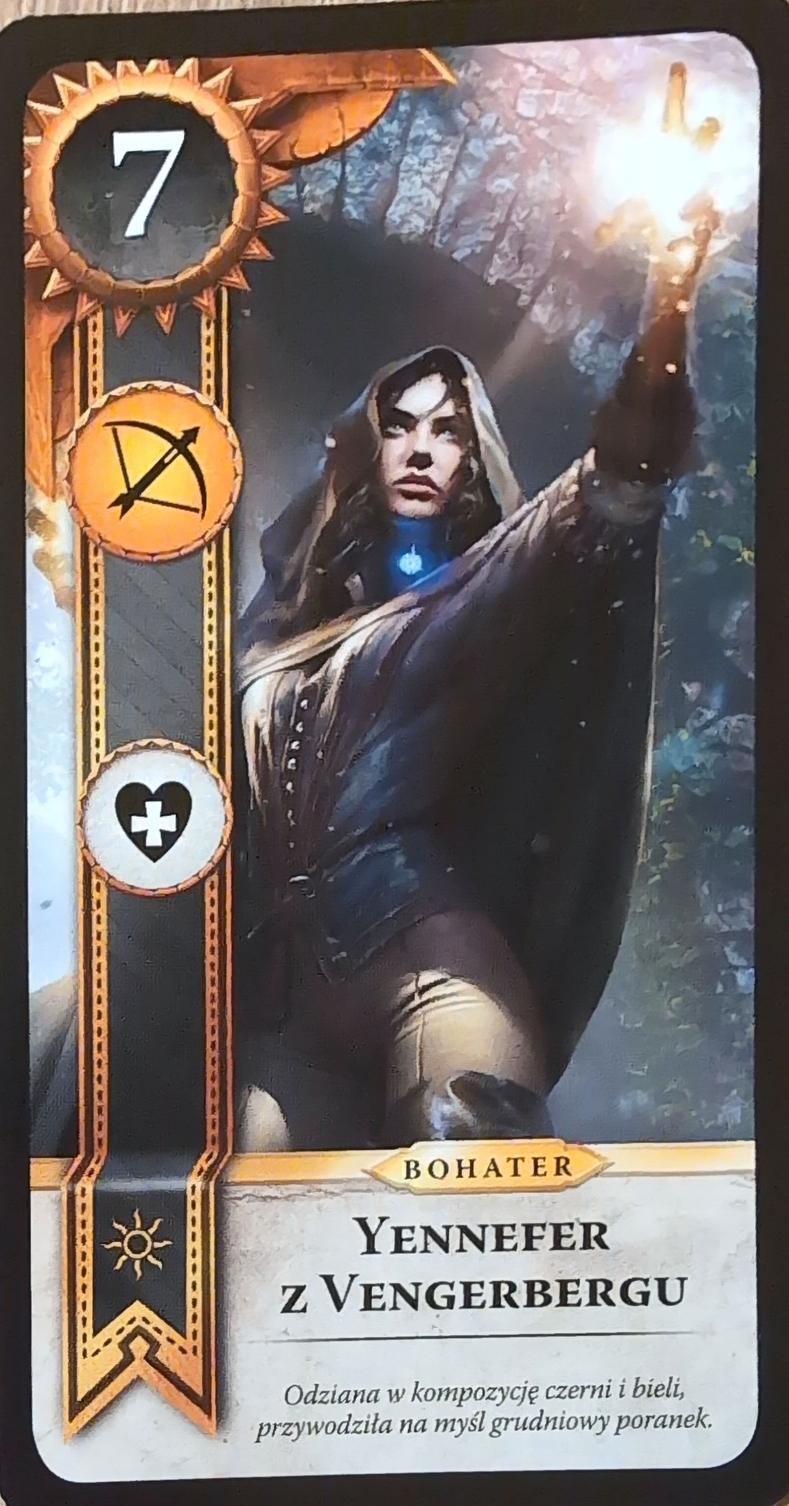7: (15, 56, 290, 333)
bohater: (365, 1136, 611, 1194)
lucznik: (61, 381, 245, 565)
zmartwychwstanie: (79, 738, 234, 895)
